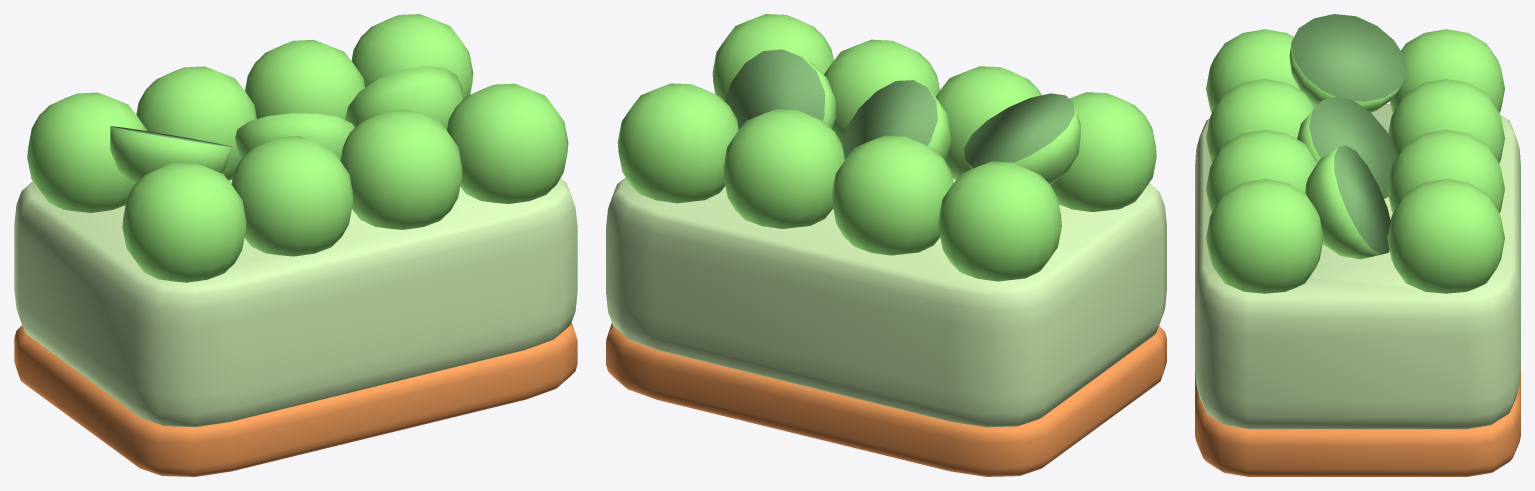
Rendered from Cake4.fbx.
3 views of the same model, side by side, from view 1: azimuth 30°, elevation 25°; view 2: azimuth 150°, elevation 25°; view 3: azimuth 270°, elevation 25° (orthographic). The views are drawn at different scales.
Visible parts, largest first — view 1: Cake4; view 2: Cake4; view 3: Cake4.
Boxes of the visible parts, left/top/right/bottom form: Cake4: left=14, top=14, right=577, bottom=476; Cake4: left=606, top=14, right=1166, bottom=476; Cake4: left=1195, top=14, right=1520, bottom=476.
Size of the model in its own units: 35.65 by 23.18 by 24.07.
